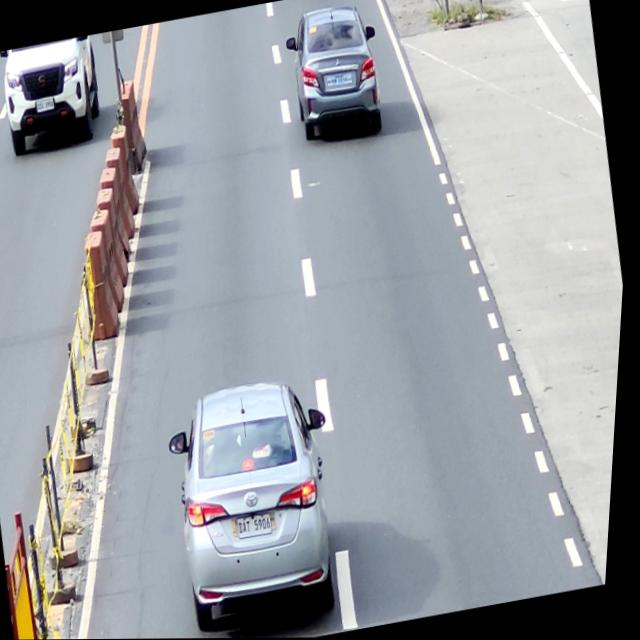Car: (156, 369, 366, 636), (276, 0, 394, 145), (0, 35, 110, 156)
License-Plate: (240, 510, 281, 542), (325, 68, 356, 89), (34, 96, 58, 114)
